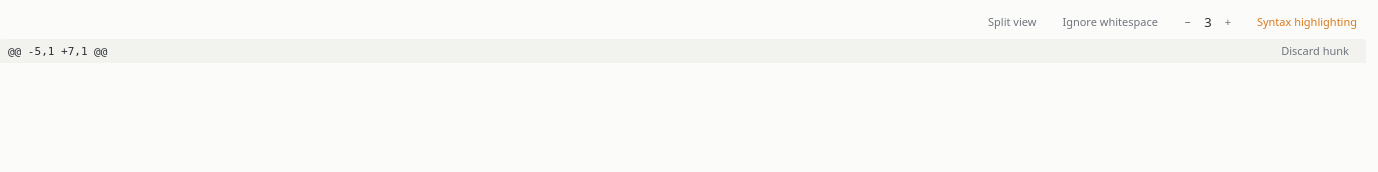
Test: DiffView › armed discard disarms on blur
Click the button "Discard hunk": (1315, 51) [1272,41,1358,61]
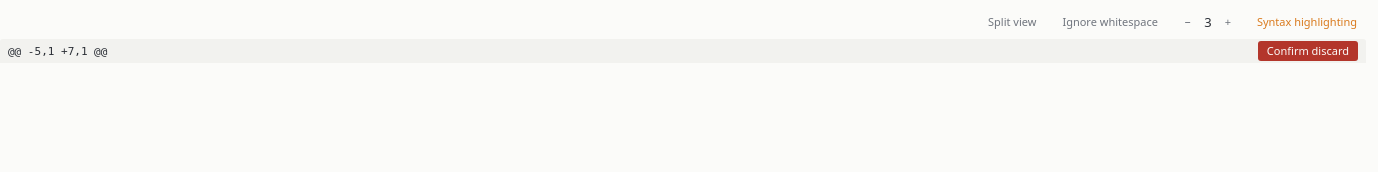
Leave the button "Confirm discard", box [1258,41,1358,61]
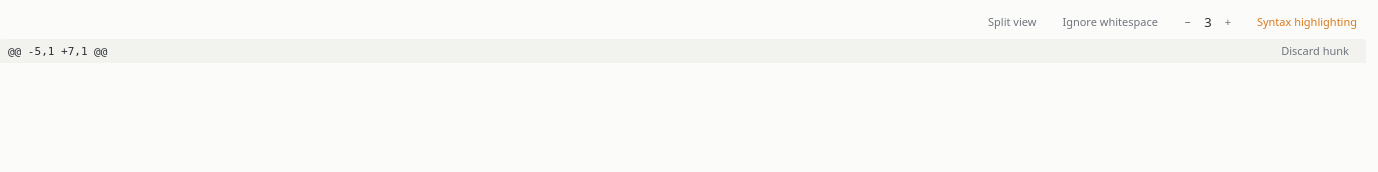
Check: the button "Discard hunk" is shown, box [1272,41,1358,61]
